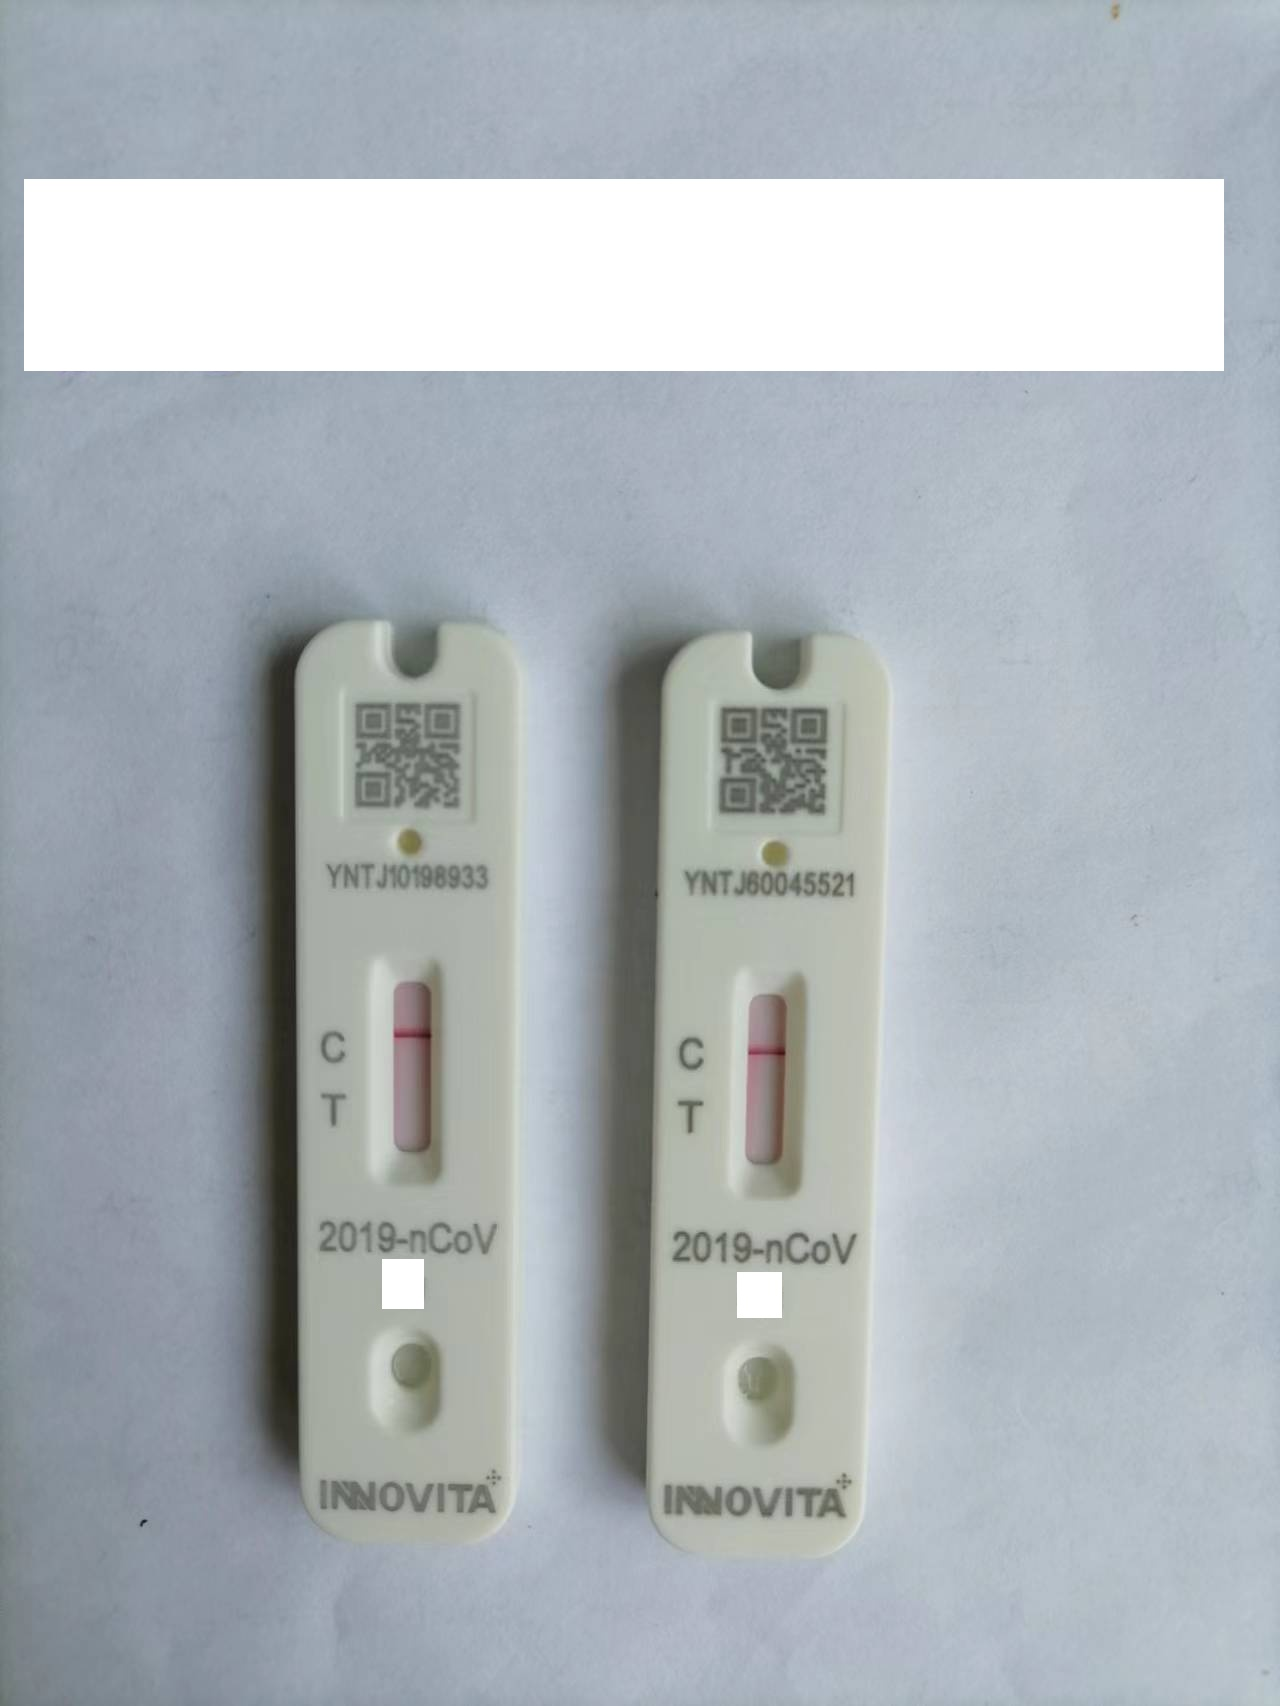negative: (729, 967, 808, 1194), (371, 963, 450, 1190)
